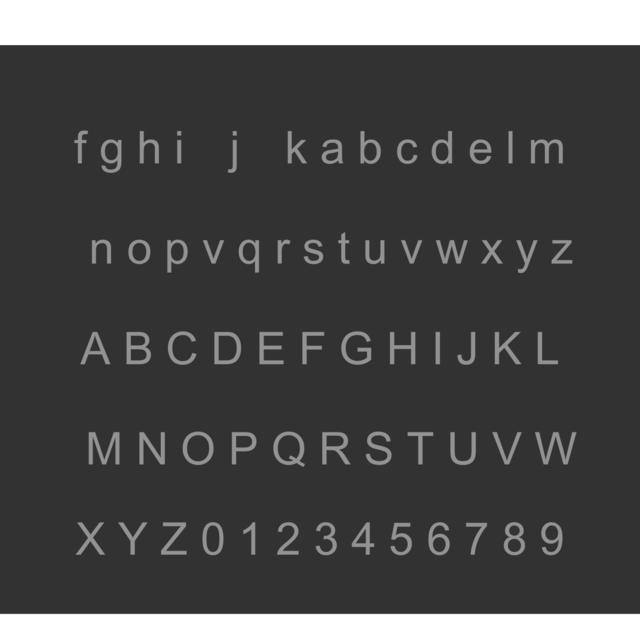alphabet: (534, 432, 572, 466), (272, 431, 306, 467), (88, 432, 121, 468), (340, 332, 372, 367), (490, 431, 522, 466), (167, 331, 197, 368), (182, 432, 214, 466), (82, 331, 112, 367), (119, 521, 150, 555), (77, 520, 106, 556), (137, 432, 167, 466), (320, 432, 349, 467), (448, 431, 477, 466), (389, 520, 412, 563), (211, 332, 240, 366), (492, 332, 520, 366), (427, 520, 451, 558), (276, 520, 300, 558), (260, 332, 286, 367), (551, 431, 577, 466), (125, 332, 151, 366), (388, 332, 414, 366), (409, 432, 434, 467), (529, 138, 562, 164), (367, 432, 392, 466), (436, 240, 468, 266), (100, 138, 123, 174), (516, 238, 539, 274), (541, 521, 564, 556), (232, 434, 257, 466), (238, 238, 260, 274), (301, 332, 325, 365), (431, 130, 452, 166), (464, 522, 486, 556), (139, 130, 160, 165), (287, 130, 308, 164), (535, 332, 556, 366), (168, 239, 188, 274), (456, 332, 476, 367), (360, 130, 380, 164), (469, 139, 494, 165), (352, 522, 372, 554), (551, 239, 574, 266), (397, 139, 419, 167), (202, 238, 225, 264), (128, 238, 151, 264), (481, 239, 504, 265), (320, 138, 342, 164), (402, 239, 424, 264), (303, 238, 324, 264), (363, 238, 384, 264), (92, 238, 112, 264), (243, 521, 257, 555), (74, 130, 88, 164), (339, 233, 352, 265), (276, 240, 292, 264), (432, 331, 440, 366), (176, 130, 183, 164), (506, 130, 513, 164)
